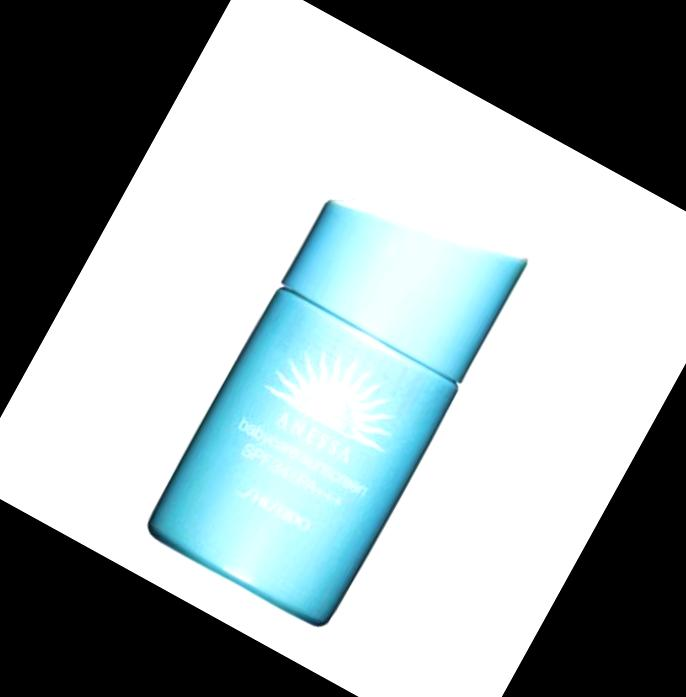cosmetic: (141, 156, 535, 635)
